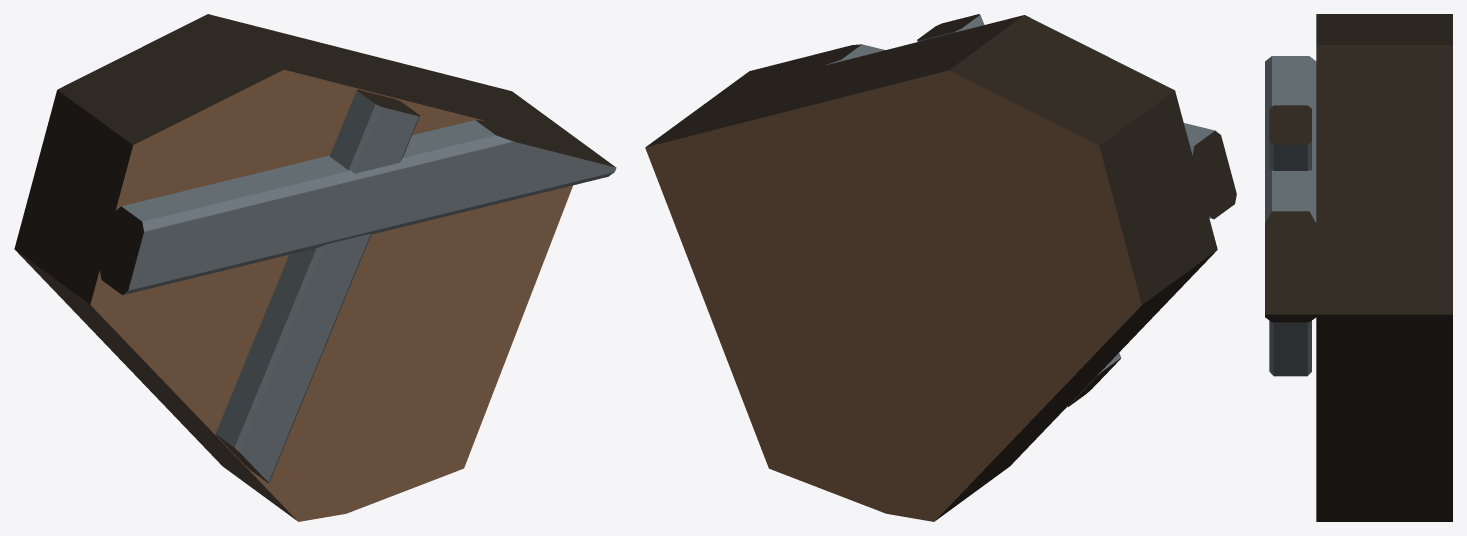
Rendered from SM_DoorShard_02_20.fbx.
3 renders of one model, left to right at view 1: azimuth 30°, elevation 25°; view 2: azimuth 150°, elevation 25°; view 3: azimuth 270°, elevation 25°, orthographic. The views are drawn at different scales.
Parts seen in each view (by area): view 1: SM_DoorShard_02_20; view 2: SM_DoorShard_02_20; view 3: SM_DoorShard_02_20.
Part boxes in pixels (left/top/right/bottom): SM_DoorShard_02_20: left=14, top=14, right=616, bottom=521; SM_DoorShard_02_20: left=645, top=14, right=1236, bottom=521; SM_DoorShard_02_20: left=1265, top=14, right=1452, bottom=521.
Bounding box in the file's own units: 60.49 × 22 × 53.35.
